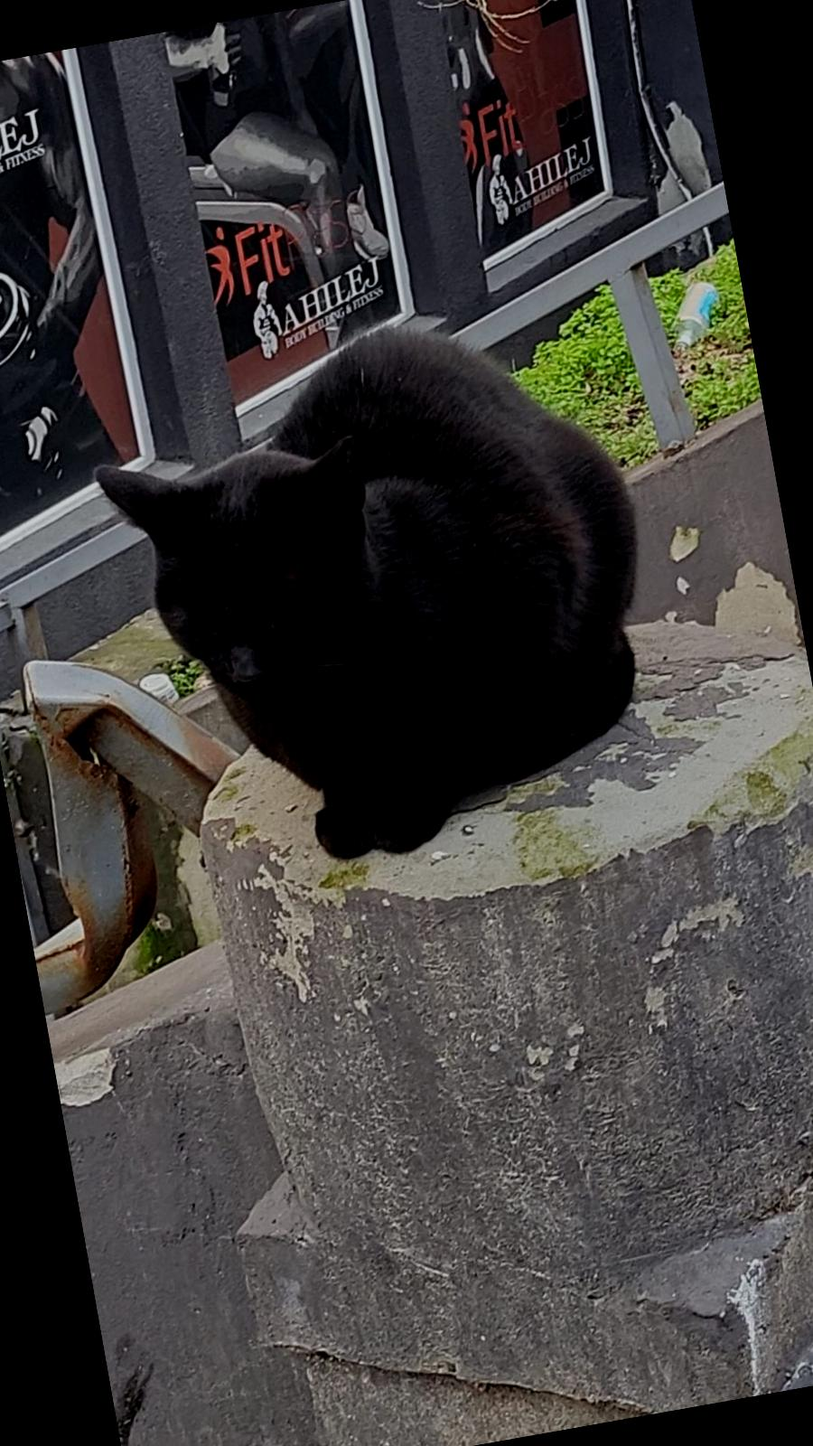macka: (77, 286, 692, 891)
